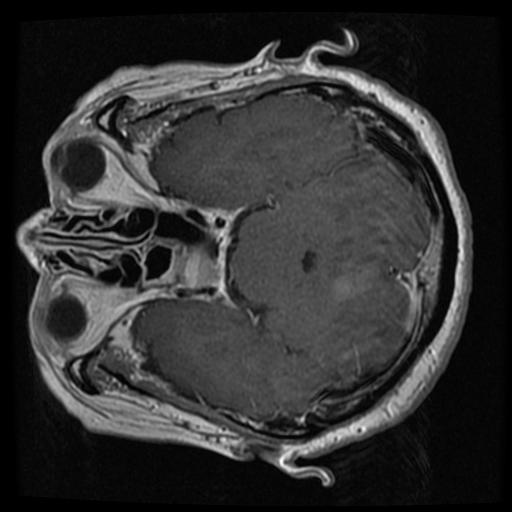pituitary tumour: (184, 248, 219, 287)
